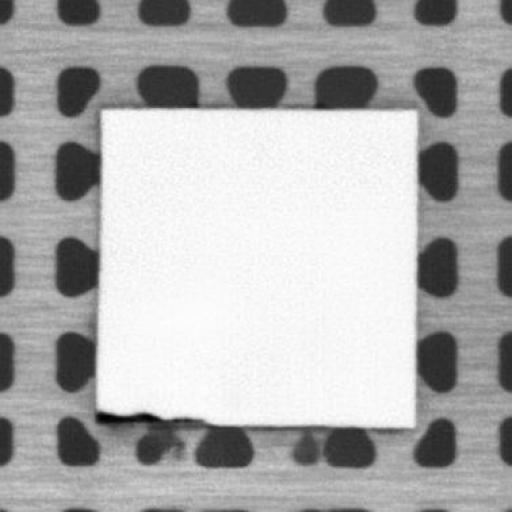DIE_BROKEN: (90, 406, 166, 422)
